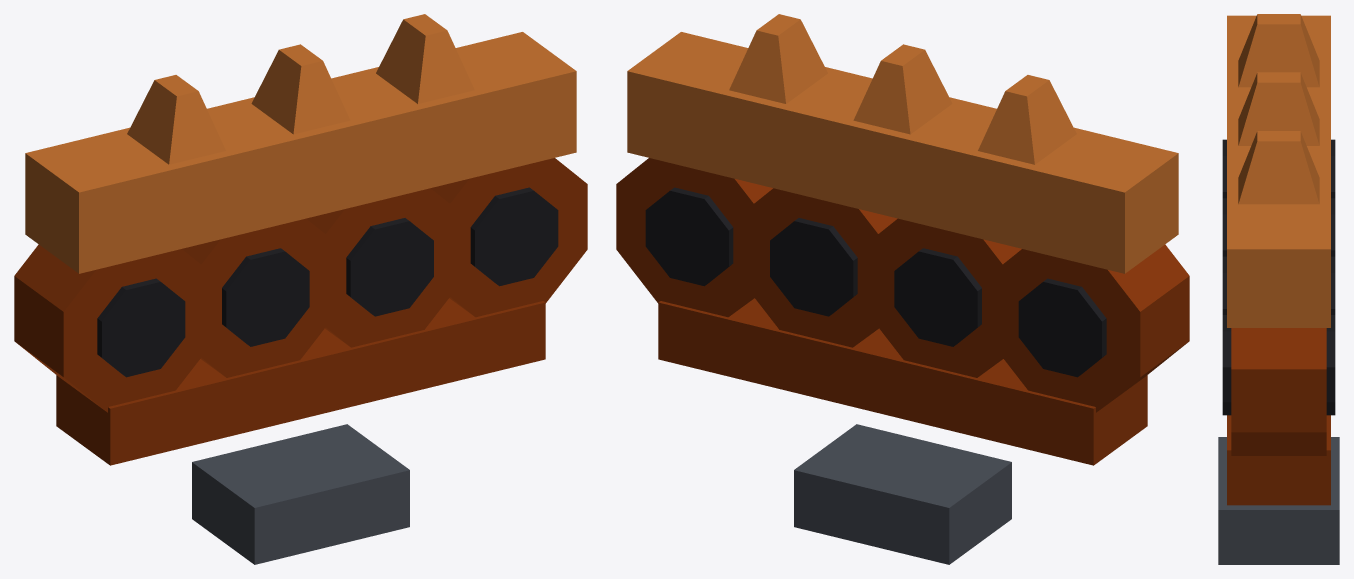
File: Attack_Plus3.fbx
3 views of the same model, side by side, from view 1: azimuth 30°, elevation 25°; view 2: azimuth 150°, elevation 25°; view 3: azimuth 270°, elevation 25° (orthographic). The views are drawn at different scales.
Visible parts, largest first — view 1: Attack_Plus3; view 2: Attack_Plus3; view 3: Attack_Plus3.
Boxes of the visible parts, x1=… form: Attack_Plus3: x1=14, y1=14, x2=587, y2=564; Attack_Plus3: x1=616, y1=14, x2=1189, y2=564; Attack_Plus3: x1=1218, y1=14, x2=1339, y2=564.
Size of the model in its own units: 67.4 by 57.5 by 14.
